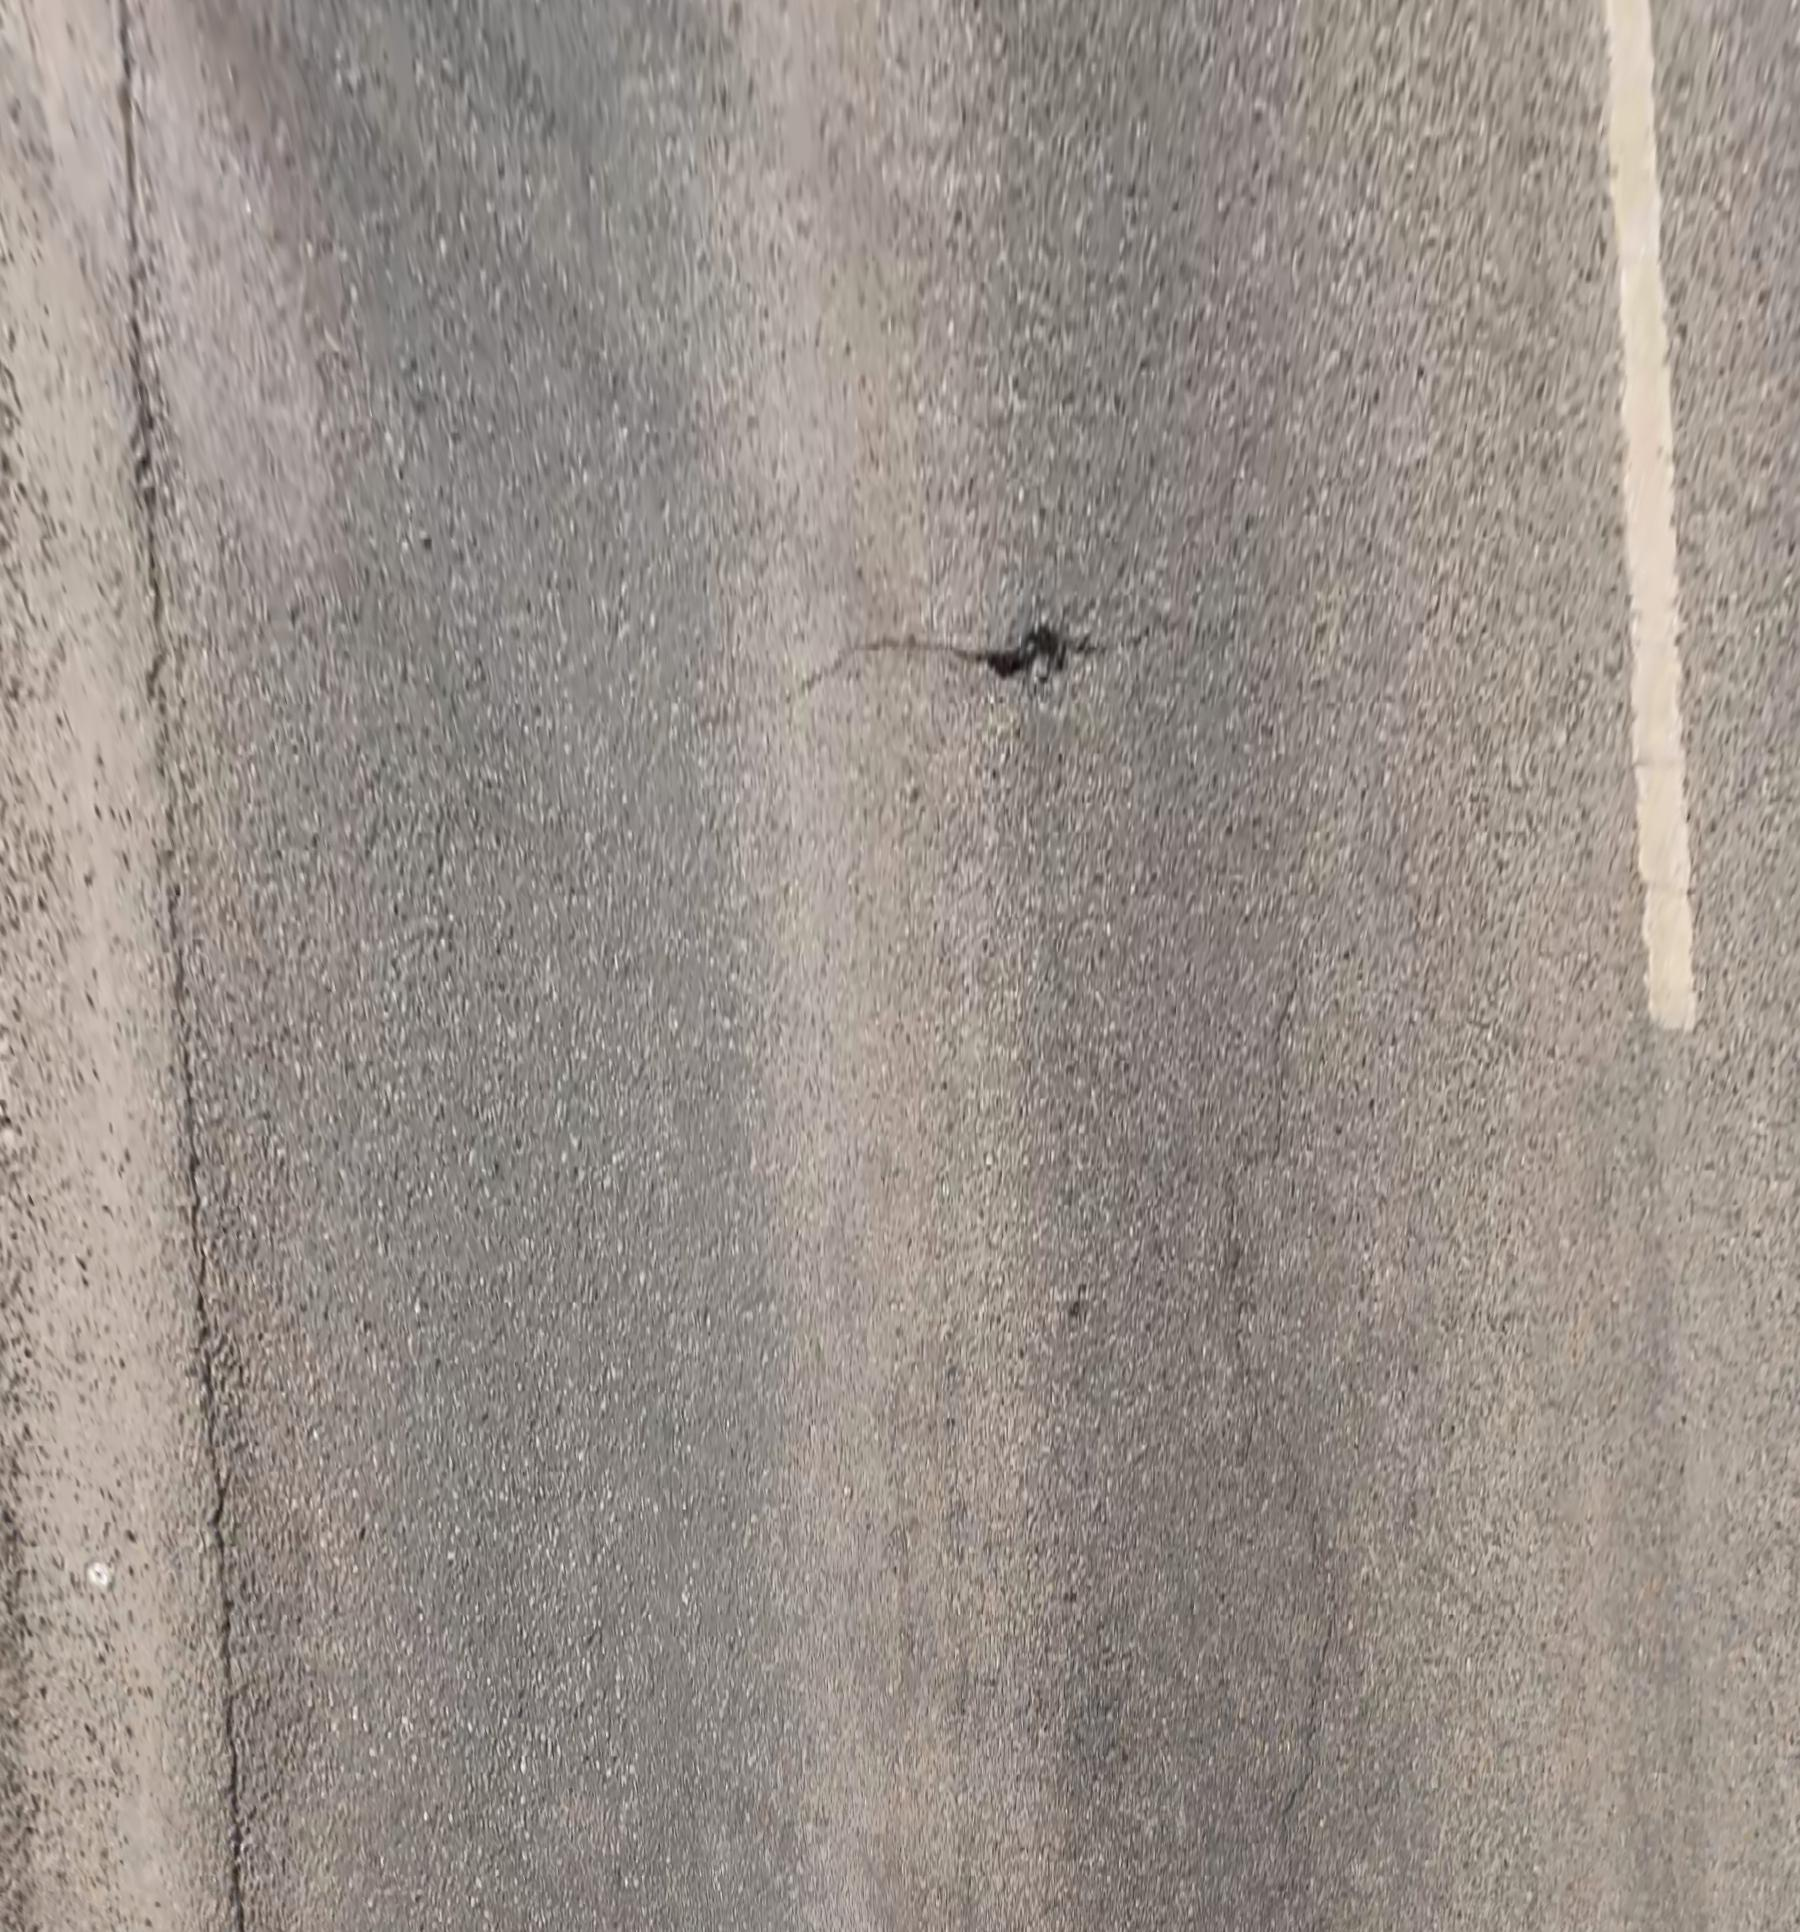pothole: (978, 623, 1076, 680)
